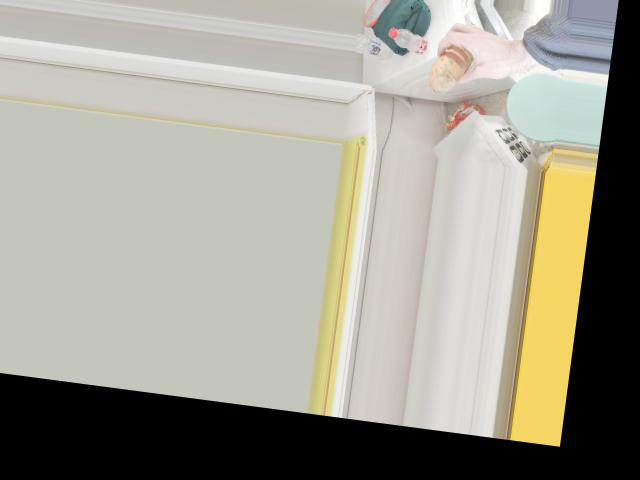sweet_potato: (426, 40, 475, 88)
